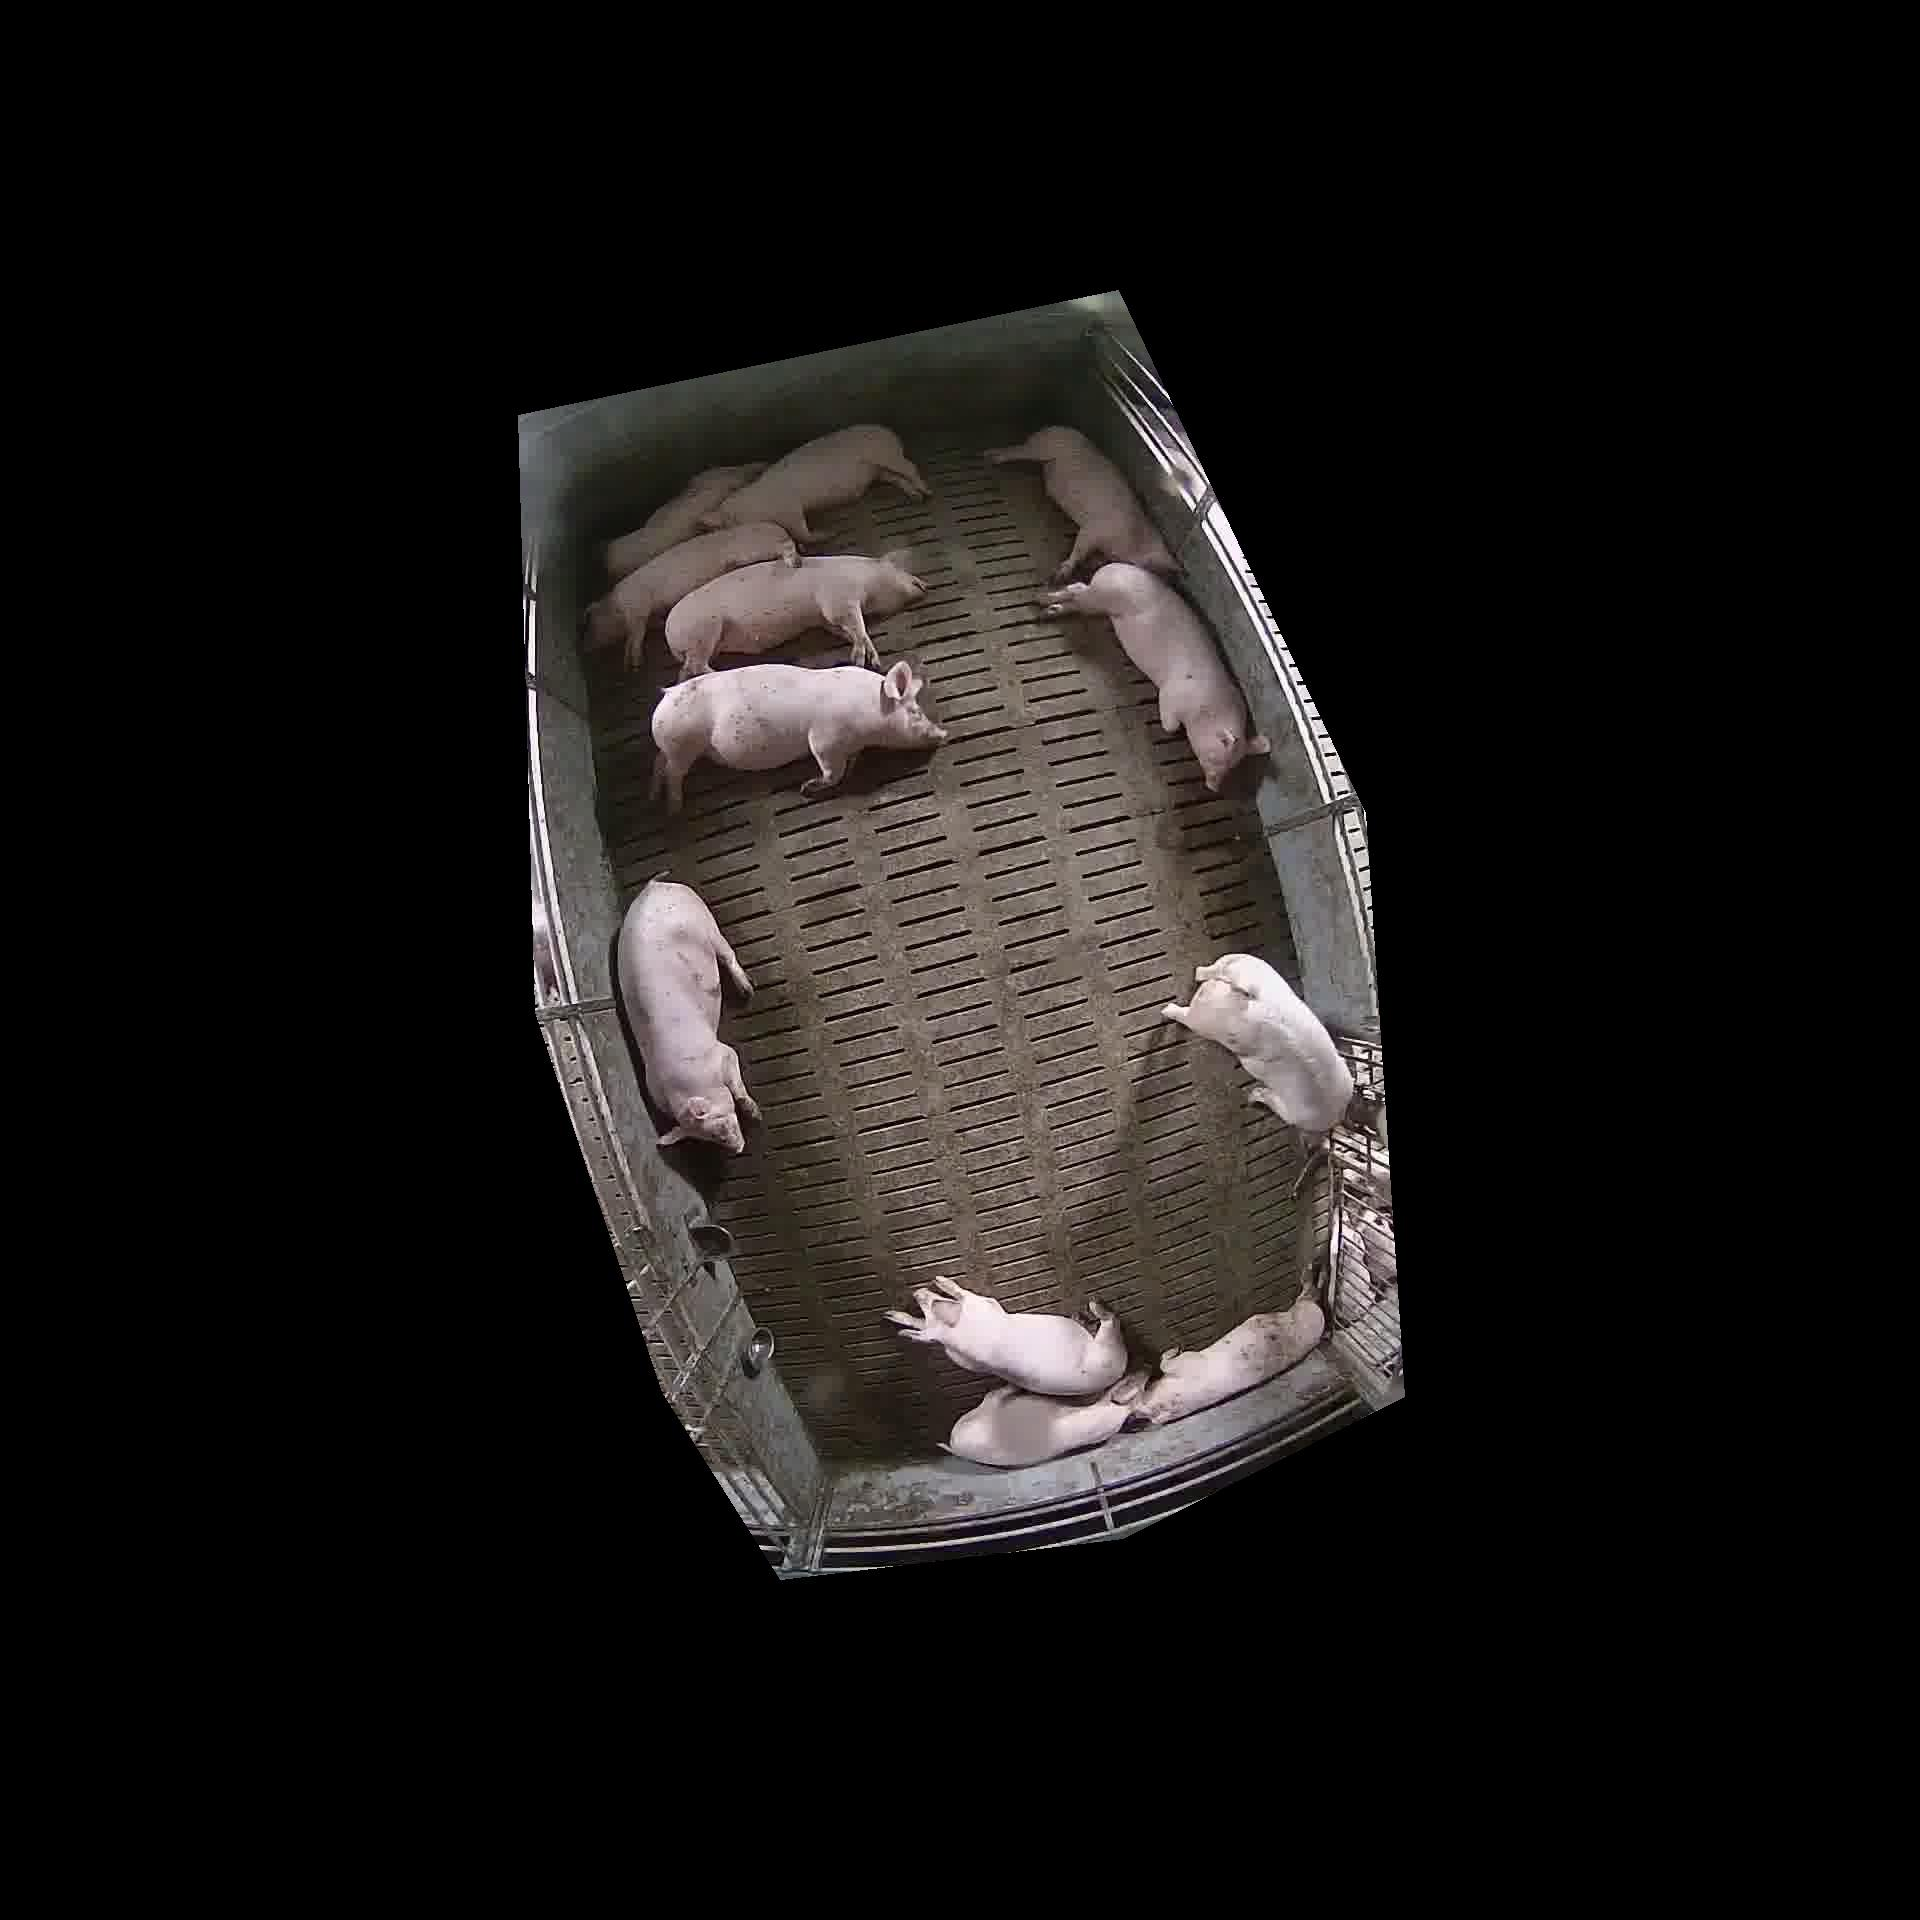pig: (1037, 563, 1266, 788), (652, 663, 946, 812), (617, 879, 758, 1153), (1164, 955, 1354, 1132), (665, 550, 925, 679), (585, 522, 796, 666), (985, 425, 1176, 577), (886, 1276, 1127, 1394), (702, 425, 928, 542), (1136, 1298, 1324, 1424), (605, 462, 765, 580), (948, 1373, 1146, 1466)
